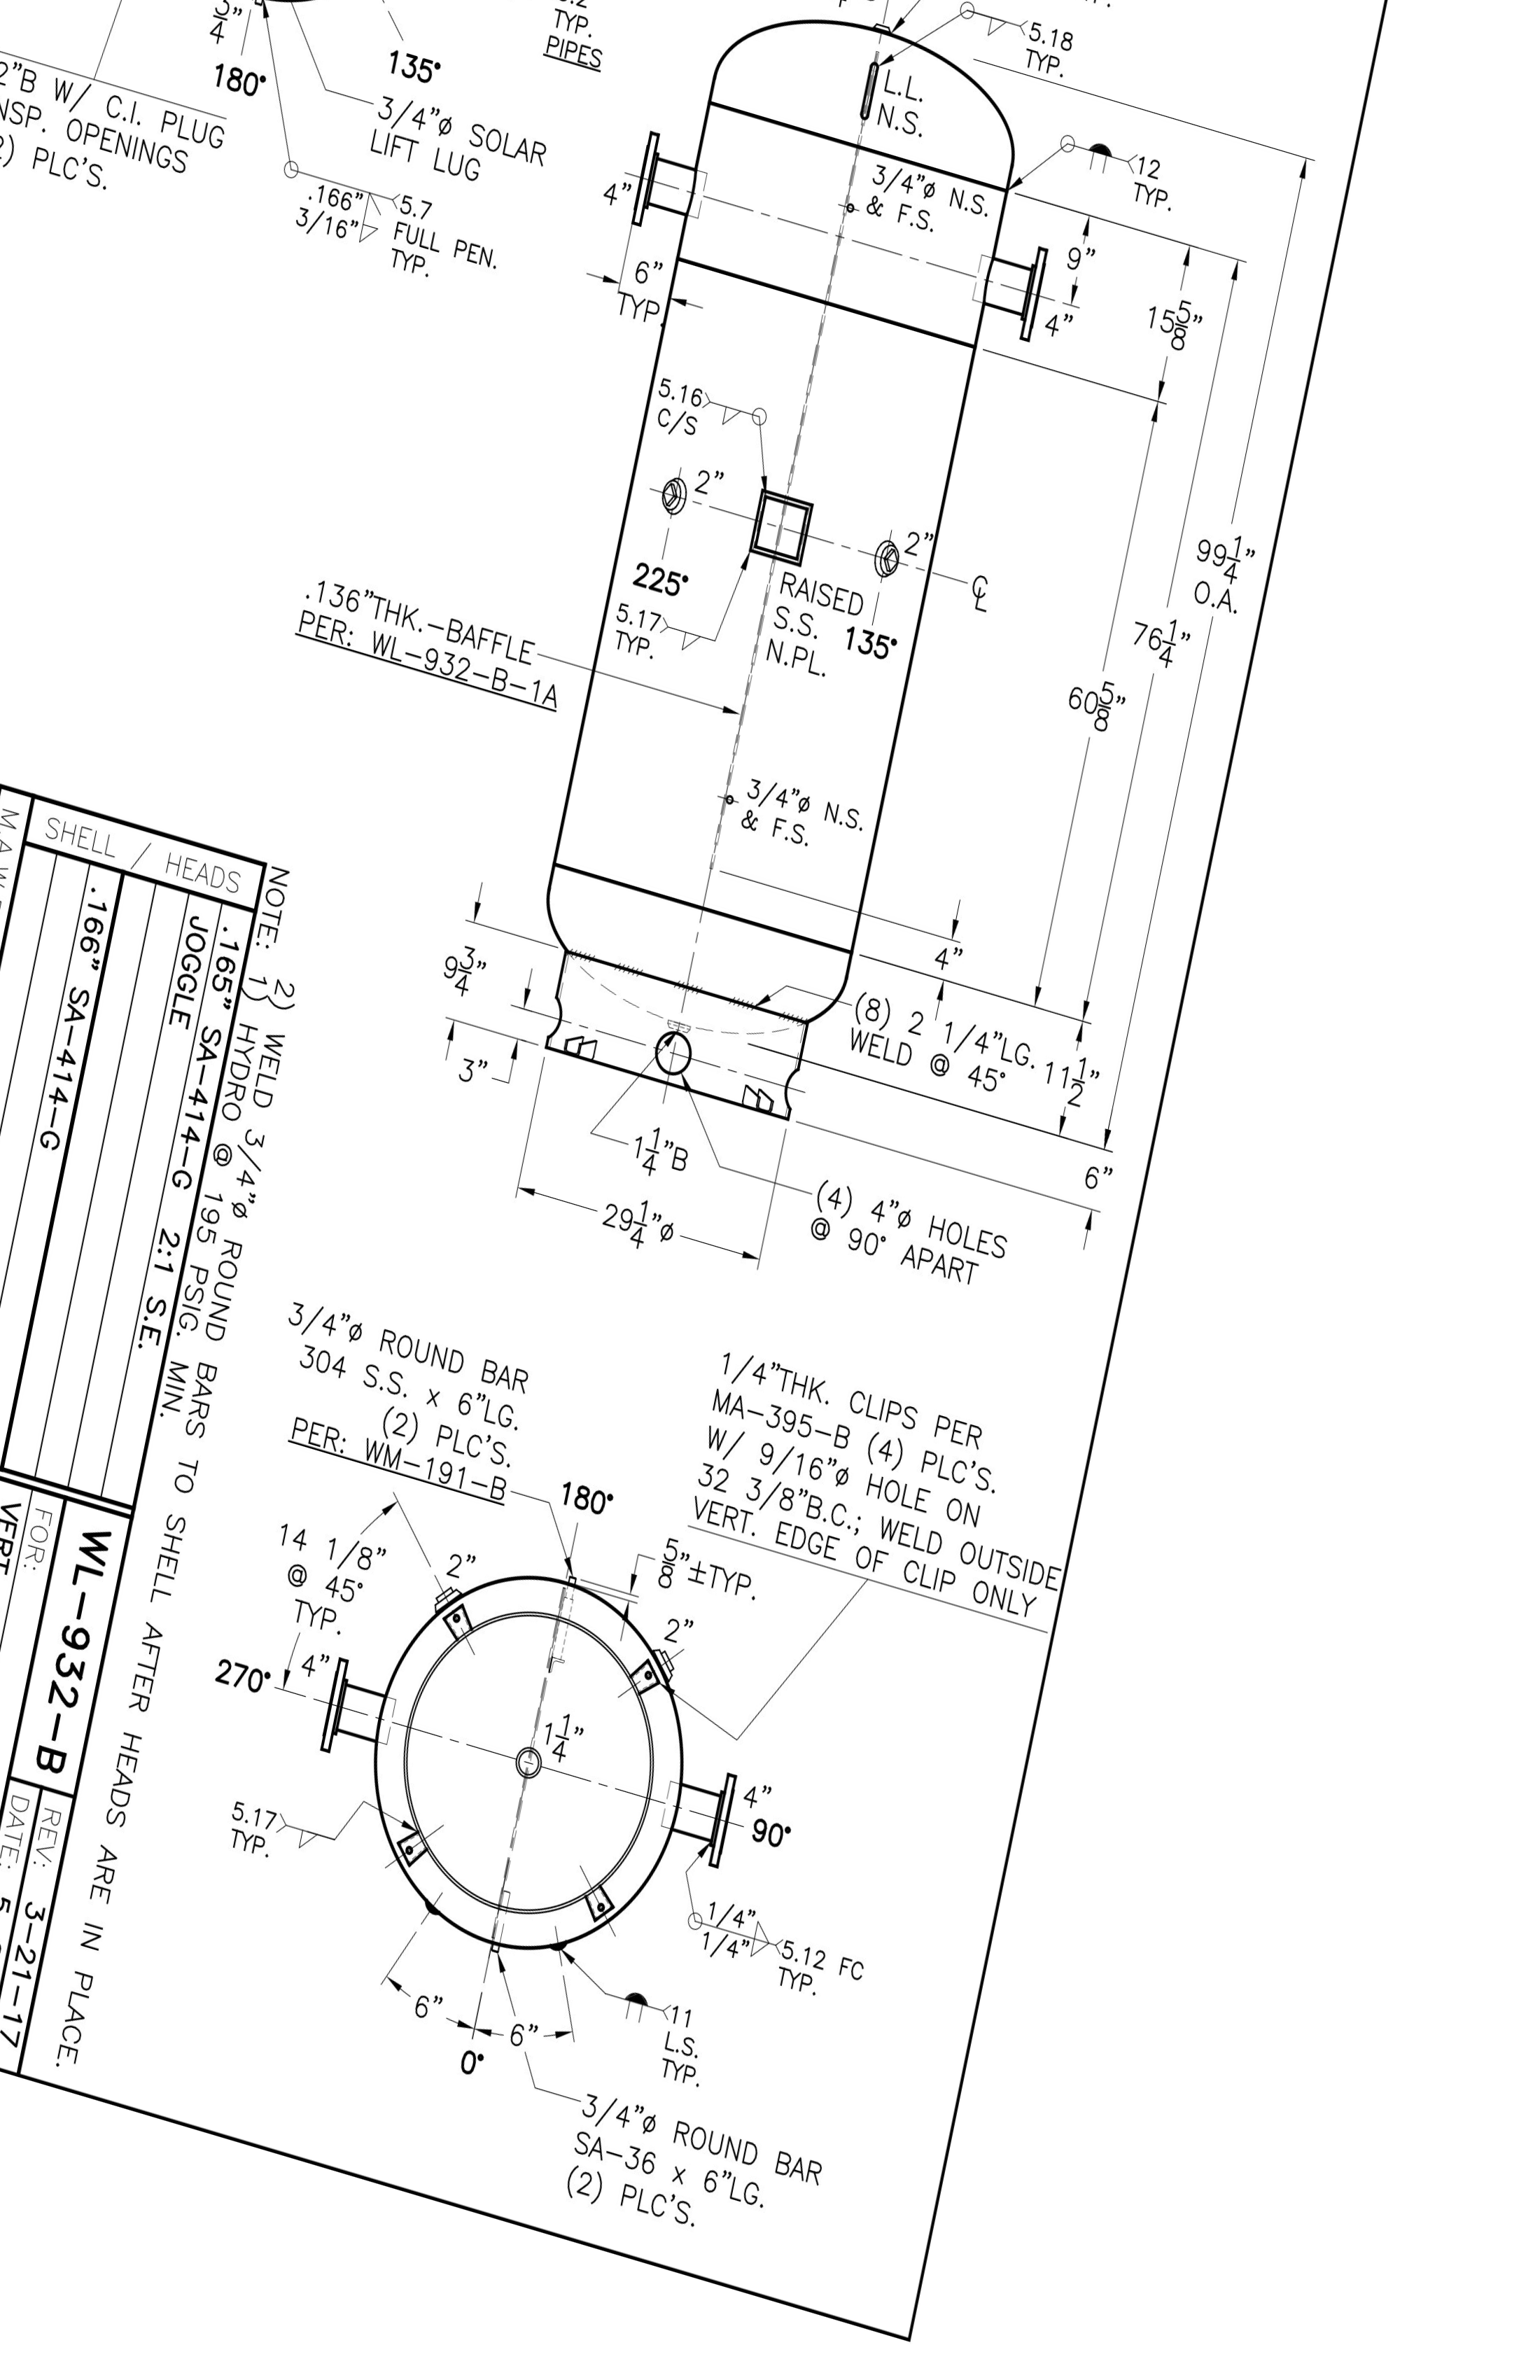Nozzle: (638, 1707, 770, 1891), (954, 220, 1094, 376), (602, 101, 746, 248), (302, 1622, 425, 1775)
